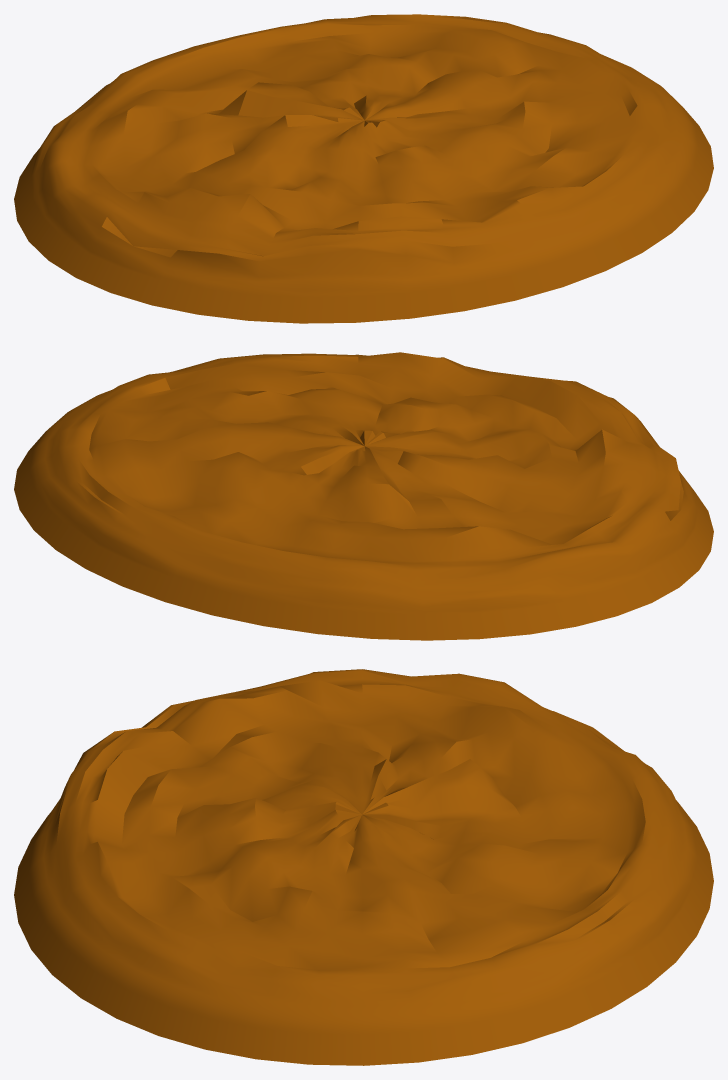
Rendered from Cookie.obj.
3 renders of one model, top to bottom at view 1: azimuth 30°, elevation 25°; view 2: azimuth 150°, elevation 25°; view 3: azimuth 270°, elevation 25°, orthographic. The views are drawn at different scales.
Parts seen in each view (by area): view 1: Cookie; view 2: Cookie; view 3: Cookie.
Part boxes in pixels (x1=…): Cookie: x1=14, y1=14, x2=713, y2=323; Cookie: x1=14, y1=352, x2=713, y2=640; Cookie: x1=14, y1=669, x2=713, y2=1065.
Size of the model in its own units: 15.4 by 1.97 by 12.82.
